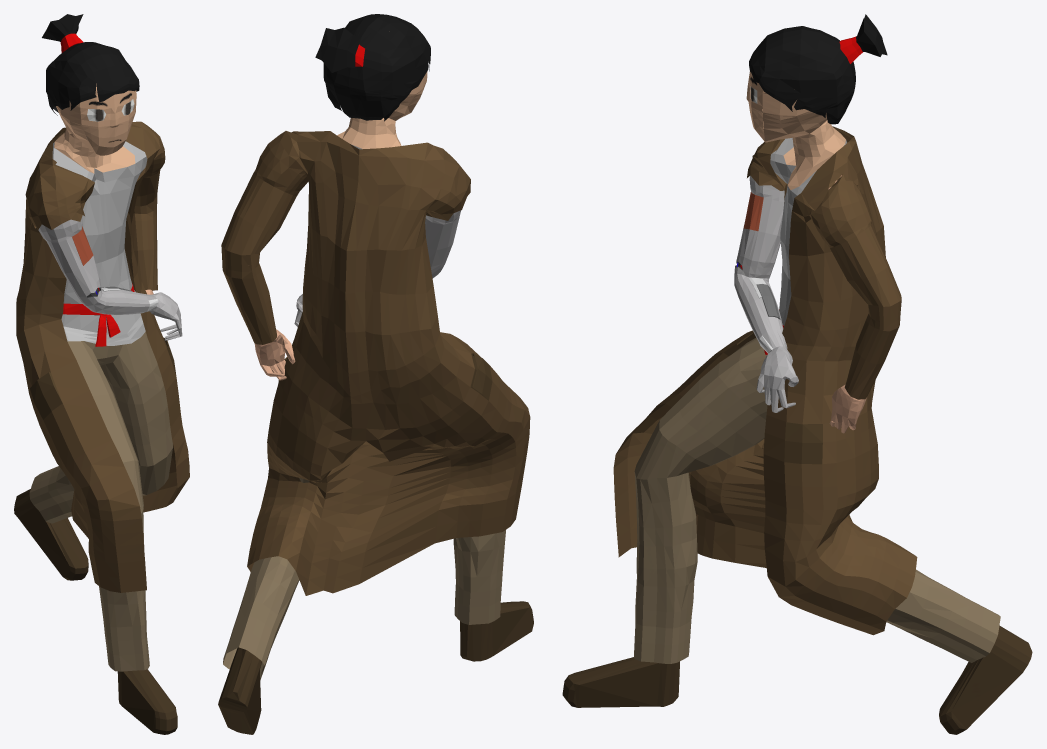
The model's file is One_RB_000021.obj.
3 views of the same model, side by side, from view 1: azimuth 30°, elevation 25°; view 2: azimuth 150°, elevation 25°; view 3: azimuth 270°, elevation 25° (orthographic). The views are drawn at different scales.
Parts seen in each view (by area): view 1: Hair_Cube.004; view 2: Hair_Cube.004; view 3: Hair_Cube.004.
Part boxes in pixels (x1,y1,x2,y2): Hair_Cube.004: [14, 14, 189, 734]; Hair_Cube.004: [218, 14, 533, 734]; Hair_Cube.004: [562, 14, 1032, 734].
Bounding box in the file's own units: 1.09 × 3.66 × 2.22.
